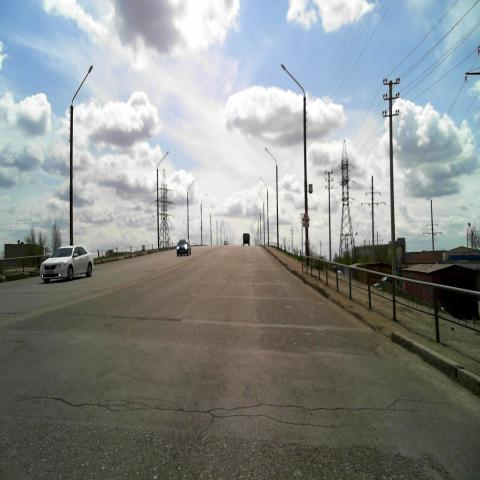1_15: (301, 210, 310, 222)
